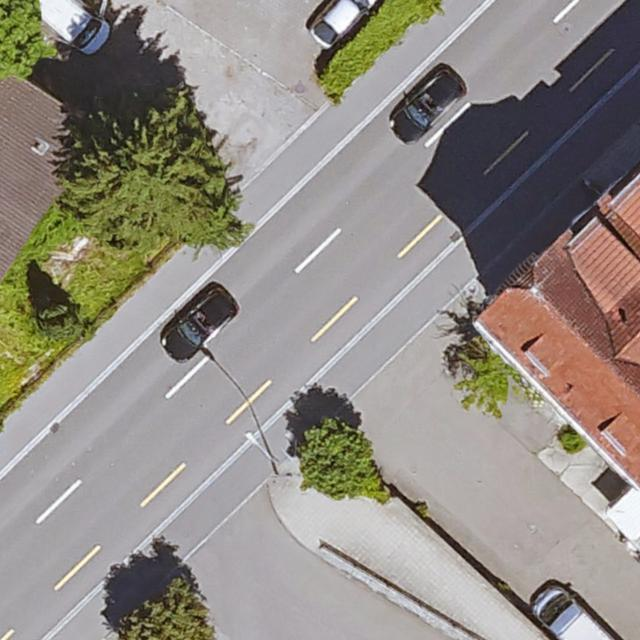tree: (68, 116, 238, 248), (298, 418, 385, 502), (118, 579, 212, 640), (455, 341, 508, 413), (0, 0, 42, 79), (36, 304, 83, 341)
